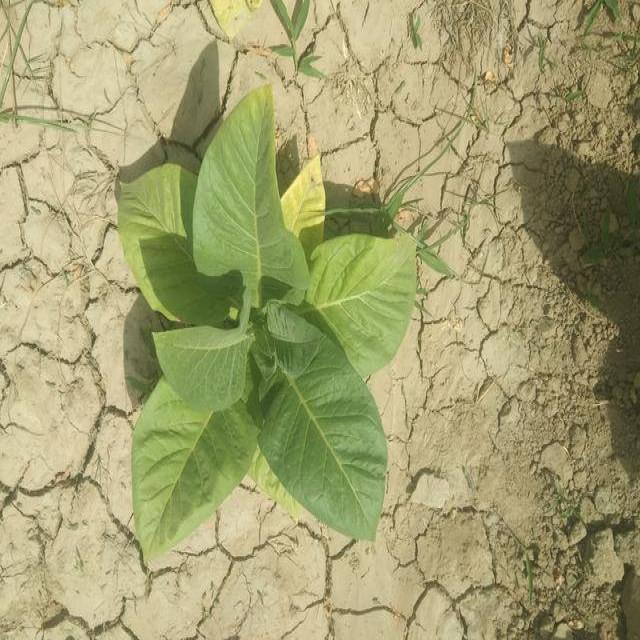crop: (111, 90, 419, 554)
